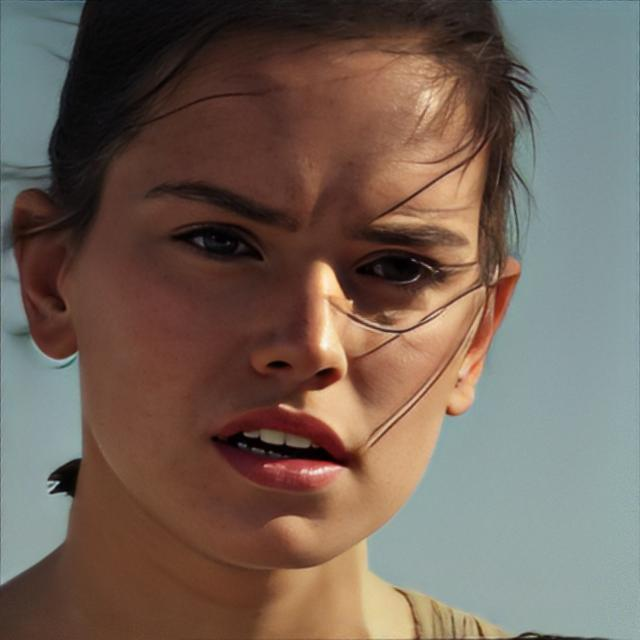disgust: (81, 27, 492, 570)
